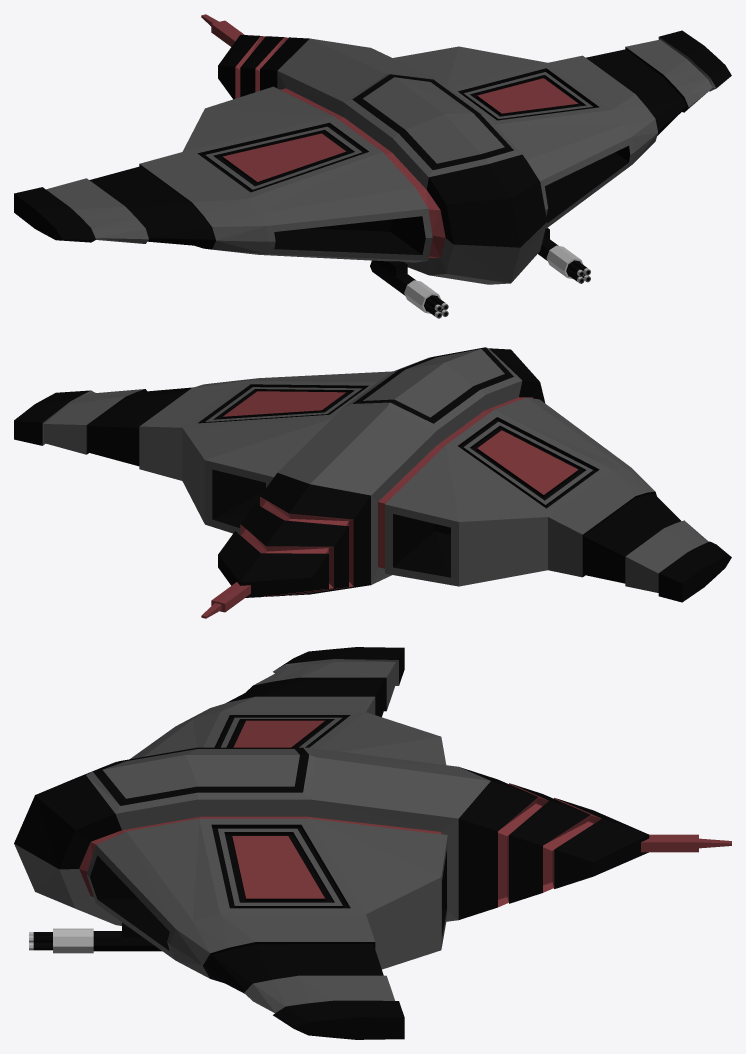
The model's file is Spaceship6_2.fbx.
3 renders of one model, top to bottom at view 1: azimuth 30°, elevation 25°; view 2: azimuth 150°, elevation 25°; view 3: azimuth 270°, elevation 25°, orthographic. The views are drawn at different scales.
Visible parts, largest first — view 1: Spaceship6_2; view 2: Spaceship6_2; view 3: Spaceship6_2.
Boxes of the visible parts, x1,y1,x2,y2 form: Spaceship6_2: (14, 14, 731, 318); Spaceship6_2: (14, 347, 731, 618); Spaceship6_2: (14, 647, 731, 1039).
Size of the model in its own units: 1430 by 314 by 1171.
